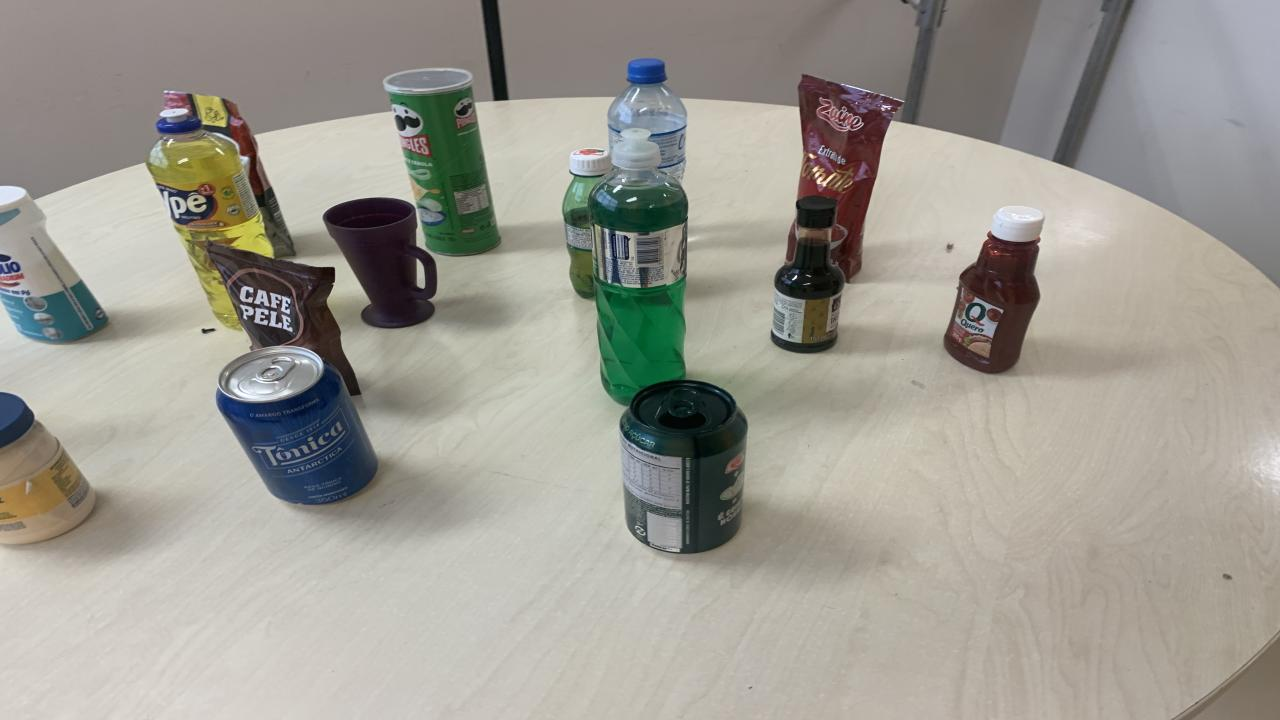Cleaner-Cleanup_Items: (0, 186, 108, 343)
Coffee-Pantry_Items: (208, 242, 360, 396)
Detergent-Cleanup_Items: (588, 128, 688, 405), (148, 109, 272, 330)
English_Sauce-Pantry_Items: (770, 195, 845, 352)
Guarana-Drinks: (562, 148, 612, 298)
Guarana_Can-Drinks: (620, 381, 748, 553)
Ketchup-Pantry_Items: (945, 206, 1045, 373)
Mayonnaise-Pantry_Items: (0, 394, 92, 544)
Pringles-Snacks: (382, 68, 500, 255)
Tomato_Sauce-Pantry_Items: (165, 90, 295, 257), (798, 75, 902, 281)
Tonic-Drinks: (218, 347, 378, 504)
Water_Bottle-Drinks: (608, 58, 688, 180)
